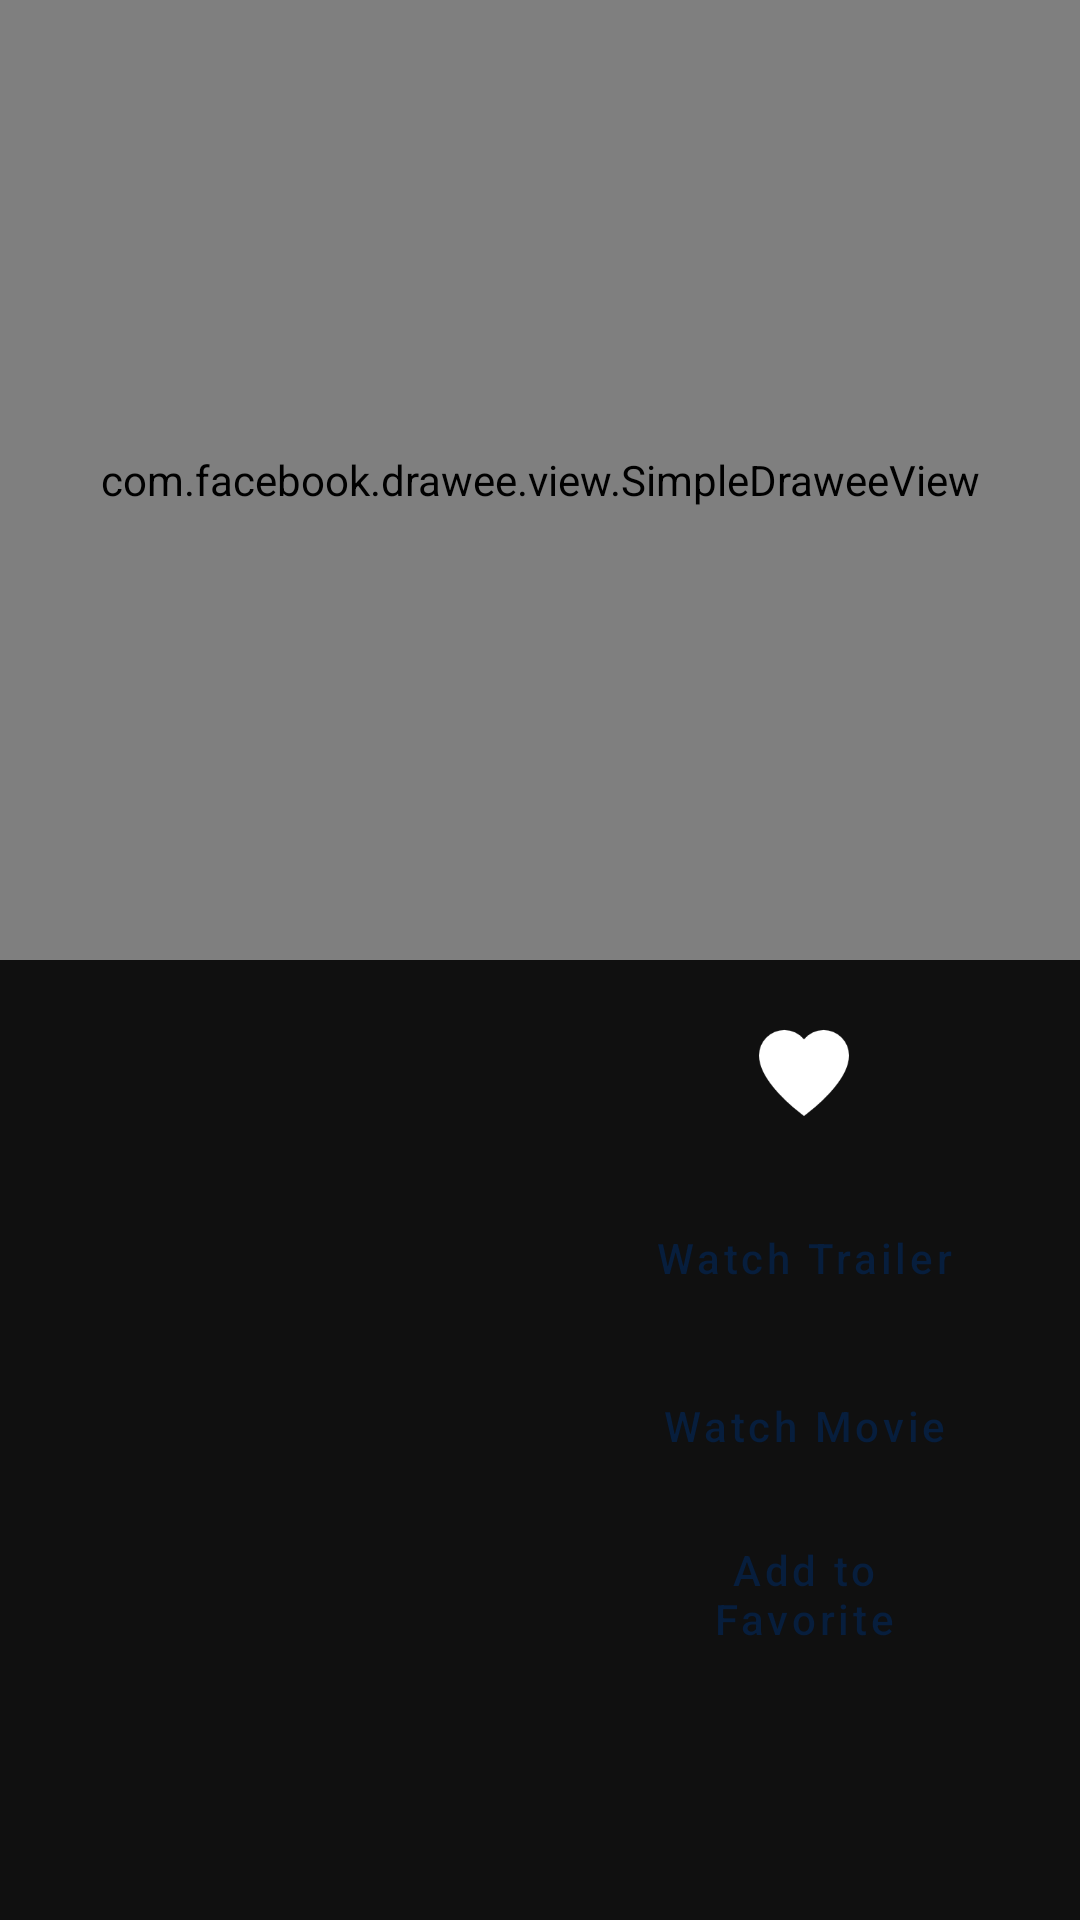

Screen size 1080*1920. Icon name, then its center in pixels as (x,y):
heart: (804,1073)
